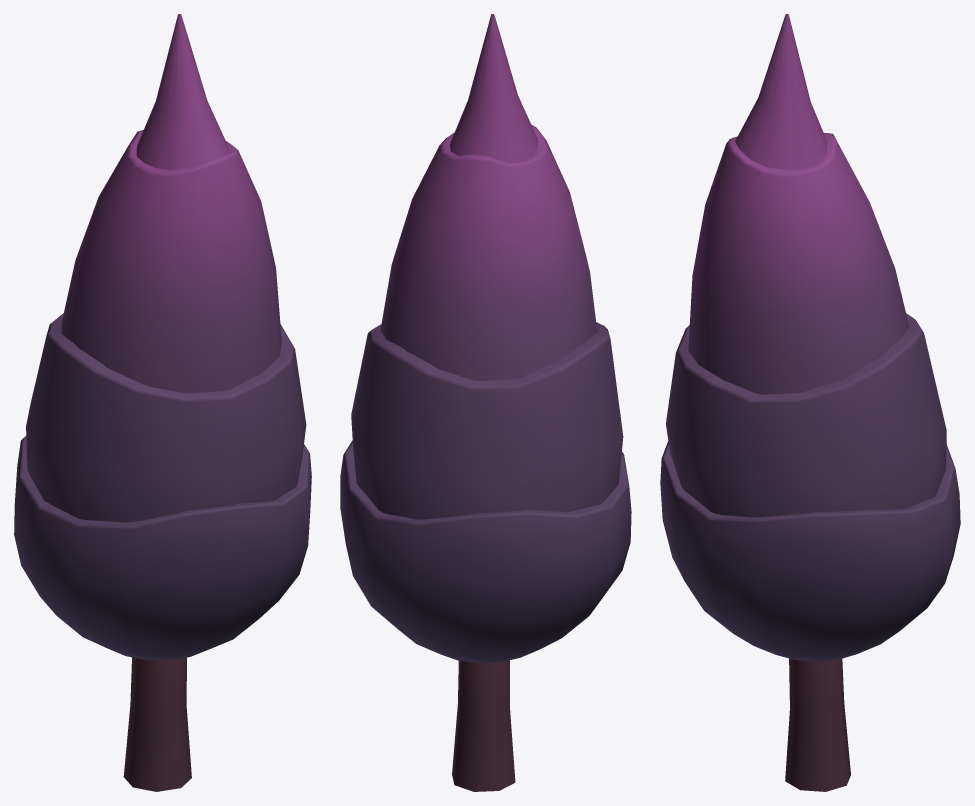
The model's file is prop_environment_tree02_4.fbx.
3 renders of one model, left to right at view 1: azimuth 30°, elevation 25°; view 2: azimuth 150°, elevation 25°; view 3: azimuth 270°, elevation 25°, orthographic. The views are drawn at different scales.
Visible parts, largest first — view 1: prop_environment_tree02_4; view 2: prop_environment_tree02_4; view 3: prop_environment_tree02_4.
Boxes of the visible parts, <box> form: prop_environment_tree02_4: <box>14,14,311,791</box>; prop_environment_tree02_4: <box>340,14,631,791</box>; prop_environment_tree02_4: <box>660,14,960,791</box>.
Bounding box in the file's own units: 202 × 571 × 203.
1 material, 1 textured.
